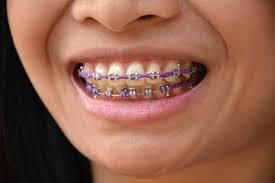Braces: (77, 65, 207, 99)
